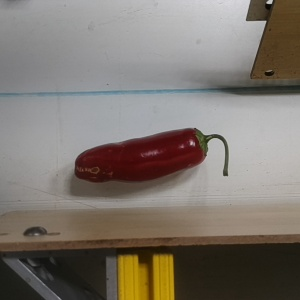Cut Point: (183, 125, 213, 162)
